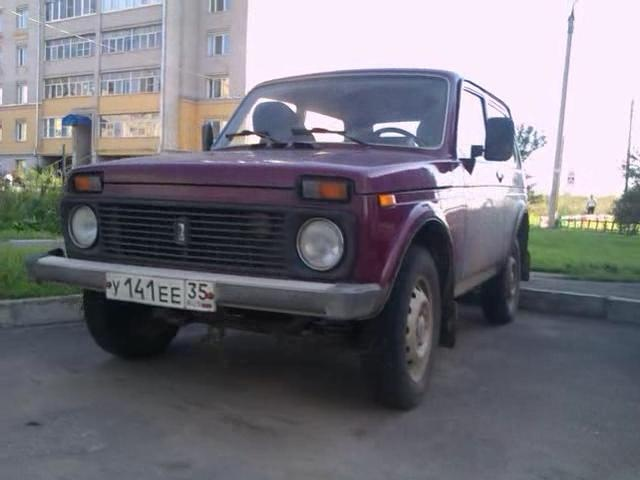car license plate: (99, 265, 220, 321)
